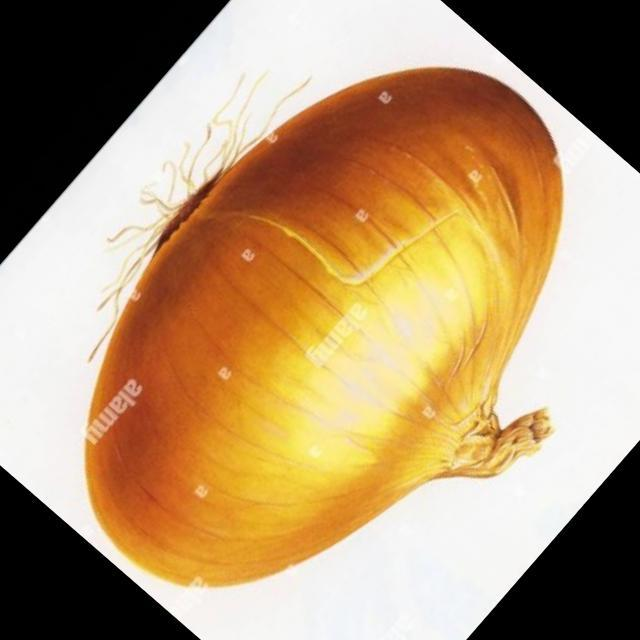Onion: (86, 72, 567, 584)
